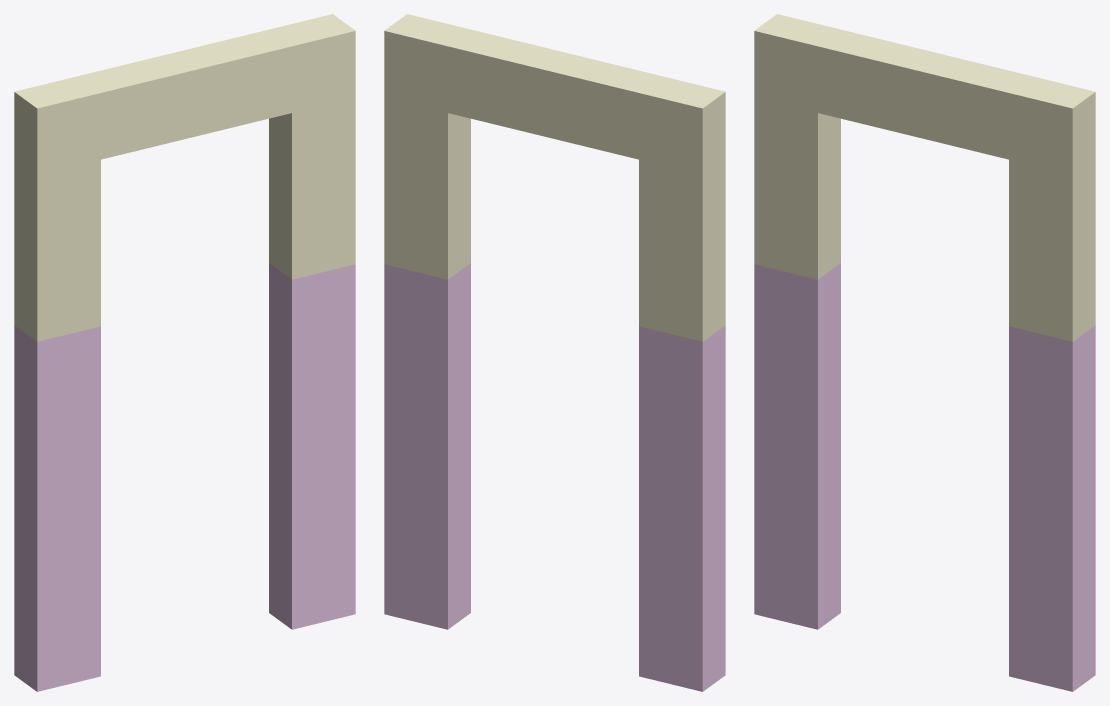
File: Wall_C_Door.glb
The picture shows the model from 3 angles, left to right: view 1: azimuth 30°, elevation 25°; view 2: azimuth 150°, elevation 25°; view 3: azimuth 330°, elevation 25°; orthographic projection.
Visible parts, largest first — view 1: Wall C Door; view 2: Wall C Door; view 3: Wall C Door.
Boxes of the visible parts, box(x1,y1,x2,y2) form: Wall C Door: box(14, 14, 355, 691); Wall C Door: box(384, 14, 725, 691); Wall C Door: box(754, 14, 1095, 691).
Bounding box in the file's own units: 2 × 3.5 × 0.25.
